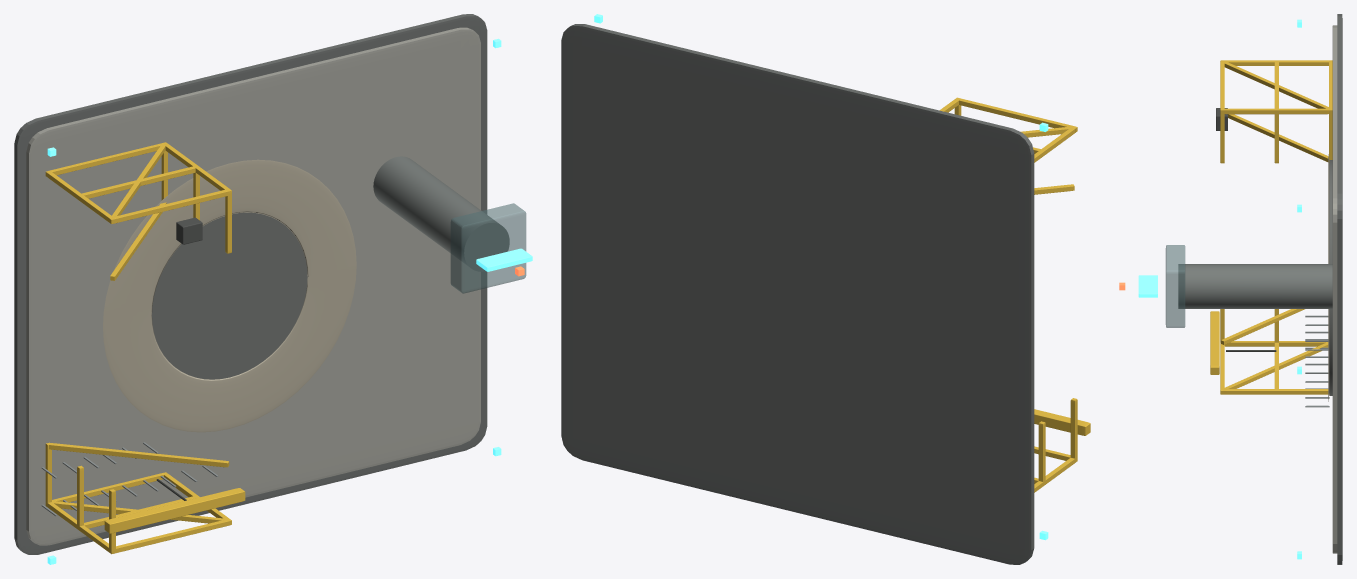
File: b-06-supply-beacon-lod2.glb
The picture shows the model from 3 angles, left to right: view 1: azimuth 30°, elevation 25°; view 2: azimuth 150°, elevation 25°; view 3: azimuth 270°, elevation 25°; orthographic projection. The views are drawn at different scales.
Parts seen in each view (by area): view 1: foundation_inner_pad, landing_pad_ring, primary_landing_pad, foundation, tower_main, tower_glass, supply_crane_south_bridge, supply_crane_south_brace_a_1, supply_crane_north_beam_x_2_n, supply_crane_south_beam_x_2_s, supply_crane_north_beam_x_1_n, supply_crane_north_beam_x_0_n (+3 smaller); view 2: foundation, supply_crane_north_beam_x_2_n, supply_crane_south_bridge; view 3: tower_main, foundation, foundation_inner_pad, tower_glass, primary_landing_pad, supply_crane_north_column_e_n, supply_crane_north_brace_b_1, supply_crane_north_brace_b_-1, supply_crane_south_brace_a_-1, supply_crane_south_bridge, supply_crane_south_column_e_s, supply_crane_north_column_w_n (+4 smaller).
Part boxes in pixels (bbox=[...]): foundation_inner_pad: bbox=[26, 27, 480, 545]; landing_pad_ring: bbox=[103, 159, 356, 432]; primary_landing_pad: bbox=[152, 212, 307, 379]; foundation: bbox=[14, 14, 487, 554]; tower_main: bbox=[373, 156, 509, 271]; tower_glass: bbox=[450, 203, 526, 293]; supply_crane_south_bridge: bbox=[104, 488, 245, 533]; supply_crane_south_brace_a_1: bbox=[49, 443, 229, 467]; supply_crane_north_beam_x_2_n: bbox=[109, 189, 231, 223]; supply_crane_south_beam_x_2_s: bbox=[109, 519, 231, 553]; supply_crane_north_beam_x_1_n: bbox=[77, 166, 195, 198]; supply_crane_north_beam_x_0_n: bbox=[45, 143, 163, 176]; foundation: bbox=[561, 24, 1034, 564]; supply_crane_north_beam_x_2_n: bbox=[959, 98, 1077, 132]; supply_crane_south_bridge: bbox=[1034, 409, 1090, 435]; tower_main: bbox=[1178, 264, 1332, 308]; foundation: bbox=[1337, 14, 1342, 564]; foundation_inner_pad: bbox=[1332, 25, 1337, 553]; tower_glass: bbox=[1165, 245, 1185, 327]; primary_landing_pad: bbox=[1329, 160, 1332, 395]; supply_crane_north_column_e_n: bbox=[1224, 108, 1329, 114]; supply_crane_north_brace_b_1: bbox=[1224, 62, 1328, 108]; supply_crane_north_brace_b_-1: bbox=[1228, 114, 1328, 161]; supply_crane_south_brace_a_-1: bbox=[1224, 342, 1328, 388]; supply_crane_south_bridge: bbox=[1210, 311, 1219, 374]; supply_crane_south_column_e_s: bbox=[1223, 389, 1329, 394]; supply_crane_north_column_w_n: bbox=[1223, 60, 1330, 65].
Size of what is drawn, in the model's own units: 17 by 15 by 8.22.
